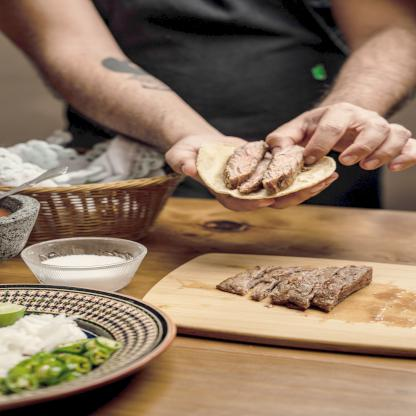Carne: (315, 265, 375, 316), (266, 265, 335, 304), (266, 143, 309, 192), (223, 140, 264, 188), (218, 266, 278, 293)
